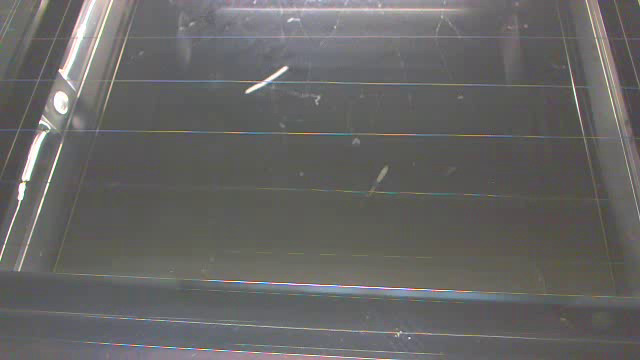alpha: (243, 66, 289, 95)
